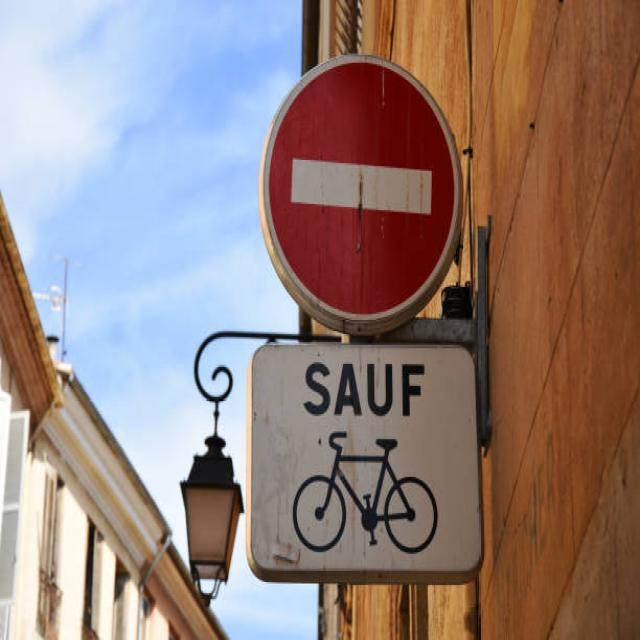do_not_enter: (253, 39, 477, 333)
